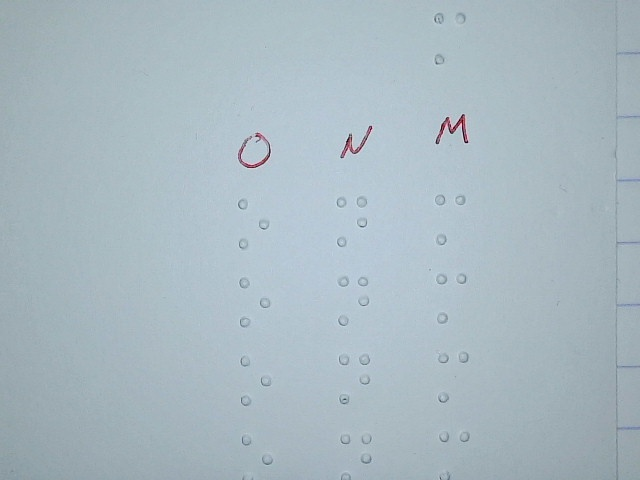M: (433, 190, 469, 247), (433, 269, 469, 326), (435, 348, 471, 405)
N: (334, 192, 370, 249), (335, 272, 371, 329), (336, 350, 372, 407)
O: (236, 196, 272, 253), (237, 274, 273, 331), (238, 353, 274, 410)
